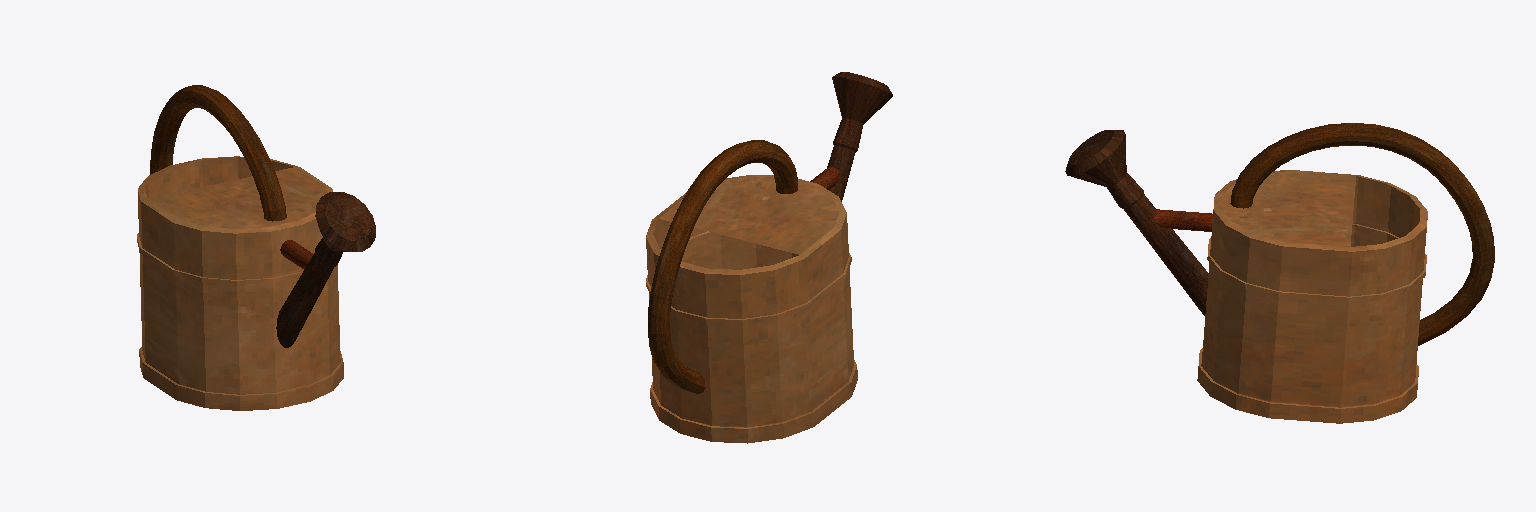
The picture shows the model from 3 angles: view 1: azimuth 30°, elevation 25°; view 2: azimuth 150°, elevation 25°; view 3: azimuth 270°, elevation 25°; orthographic projection.
Visible parts, largest first — view 1: Cylinder.023, Cylinder.024, NurbsPath.040, Cylinder.025; view 2: Cylinder.023, NurbsPath.040, Cylinder.024; view 3: Cylinder.023, NurbsPath.040, Cylinder.024, Cylinder.025.
Part boxes in pixels (x1,y1,x2,y2): Cylinder.023: (137, 156, 343, 410); Cylinder.024: (276, 192, 375, 347); NurbsPath.040: (150, 85, 286, 221); Cylinder.025: (280, 240, 313, 269); Cylinder.023: (646, 175, 857, 443); NurbsPath.040: (648, 140, 797, 393); Cylinder.024: (827, 72, 892, 201); Cylinder.023: (1197, 170, 1427, 423); NurbsPath.040: (1230, 123, 1494, 345); Cylinder.024: (1065, 130, 1208, 315); Cylinder.025: (1154, 209, 1212, 231).
Size of the model in its own units: 1.01 by 1.57 by 2.31.
4 materials, 4 textured.